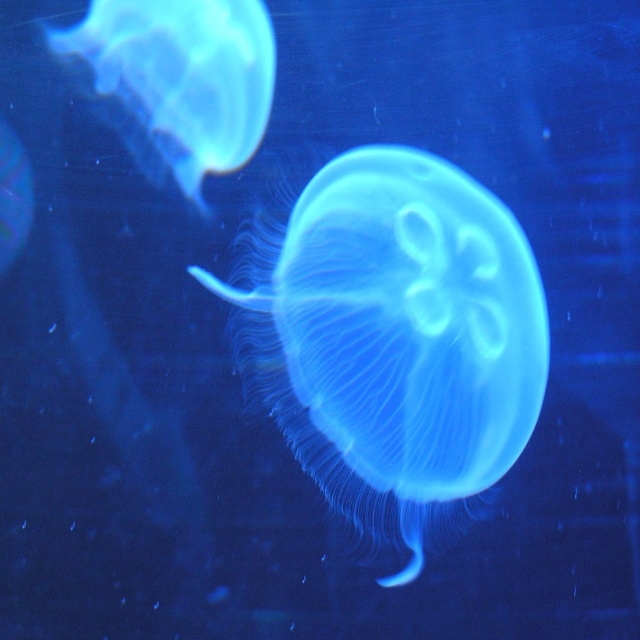Jellyfish: (188, 138, 552, 591), (31, 0, 278, 224)
